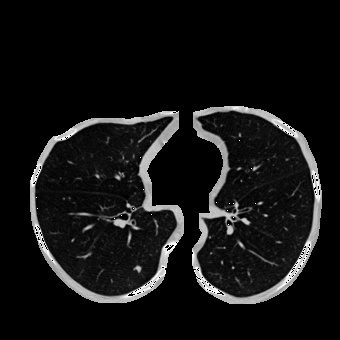PN: (135, 266, 141, 272)
